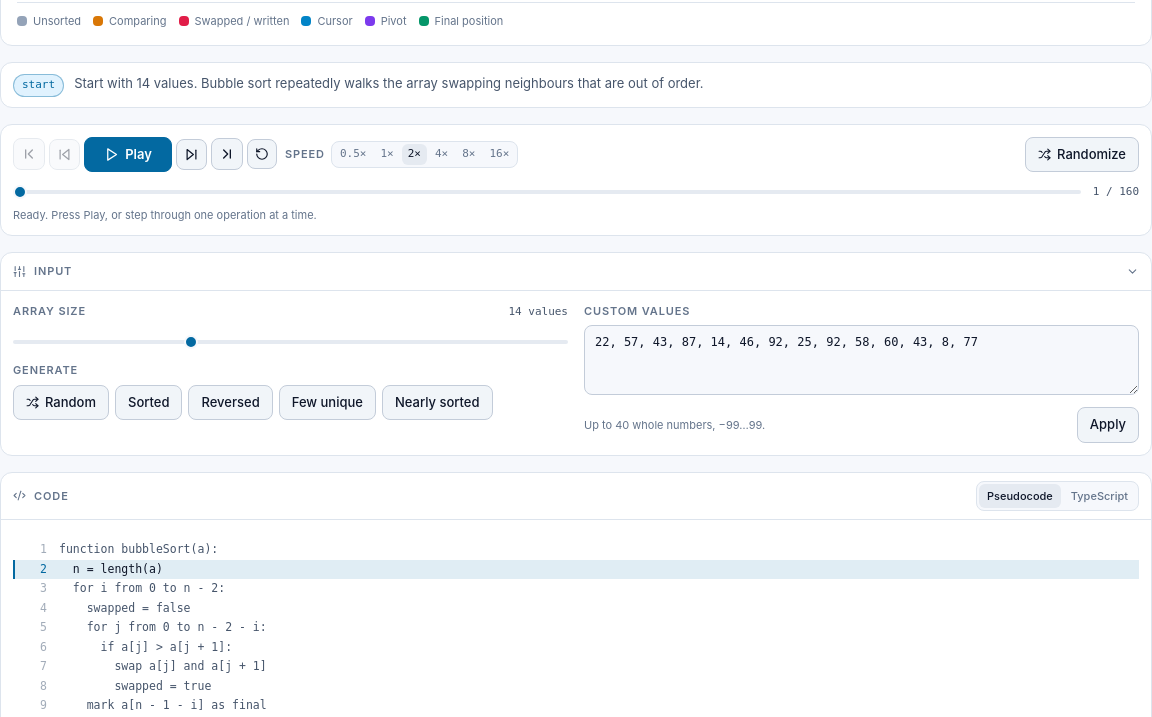
Scenario: SortingPage › explains the counting-sort key range instead of failing silently
The image size is (1152, 717).
(page scrolled)
Replace the text in the text box labelled "Custom values" with "1, 99" at (862,360), box [584,325,1139,395]
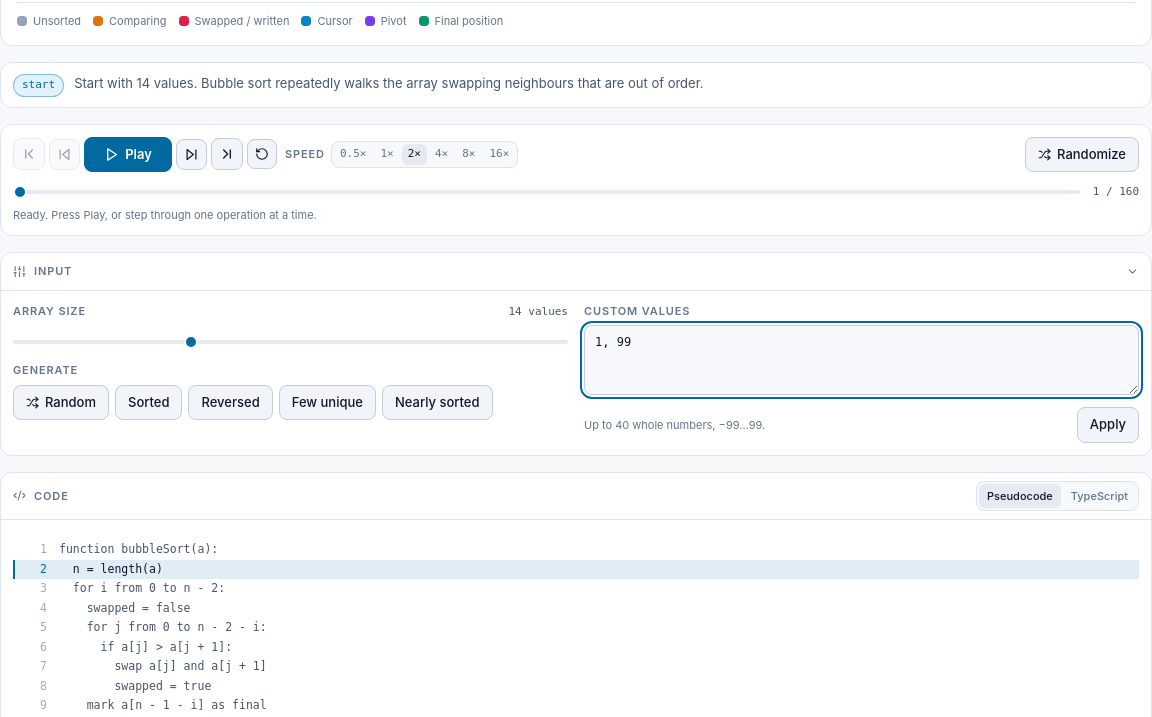
Click the button "Apply" at (1108,425), box [1077,407,1139,442]
(page scrolled)
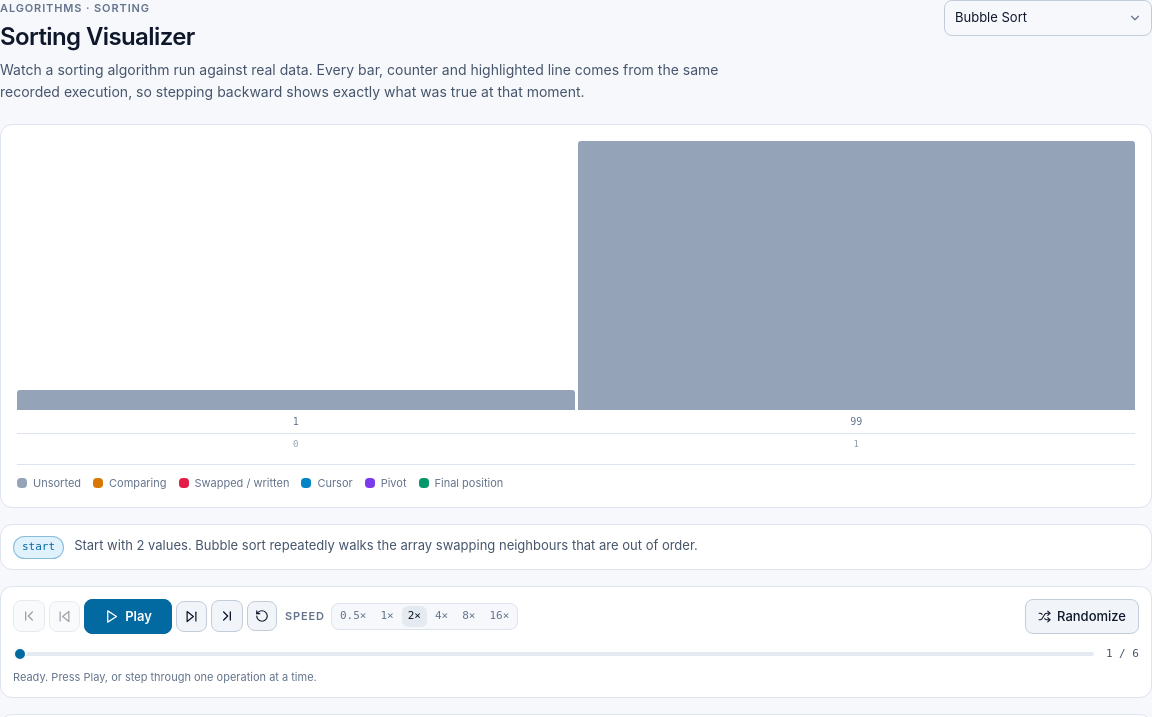
Select "Counting Sort" in the dropdown named "Algorithm" at (1048,18), box [944,0,1151,36]
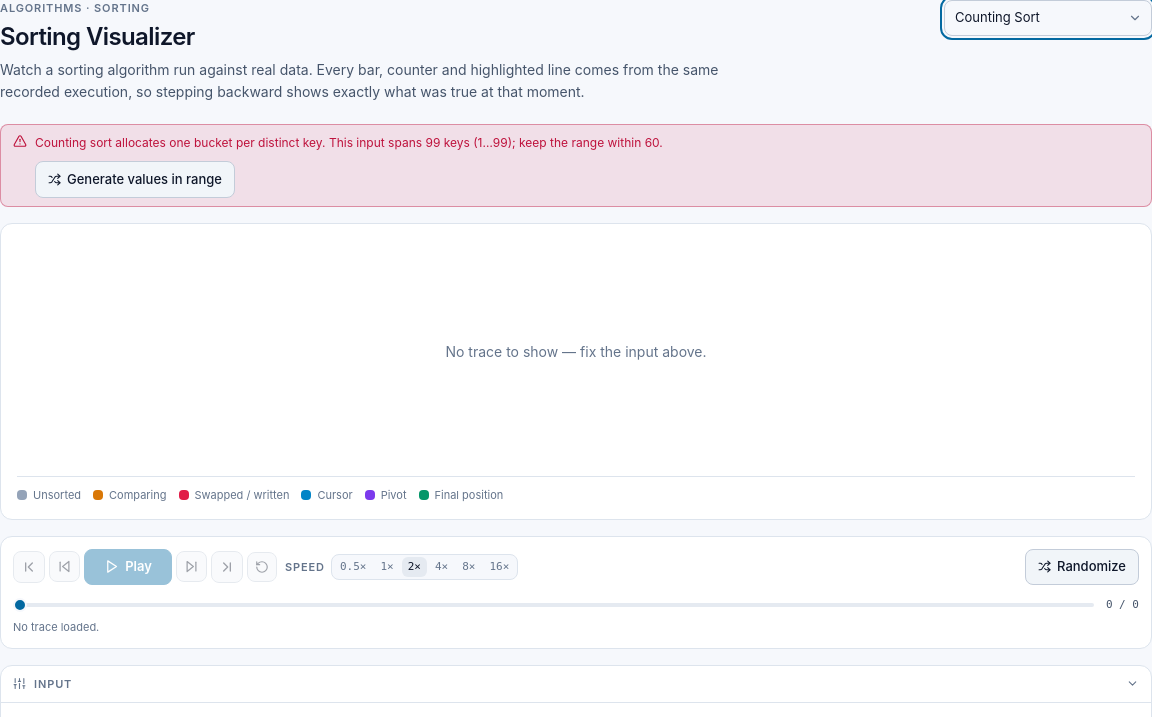
Expected: the message shows "bucket per distinct key", [35,135,663,150]
Click the button "Generate values in range" at (135,179), box [35,160,235,198]
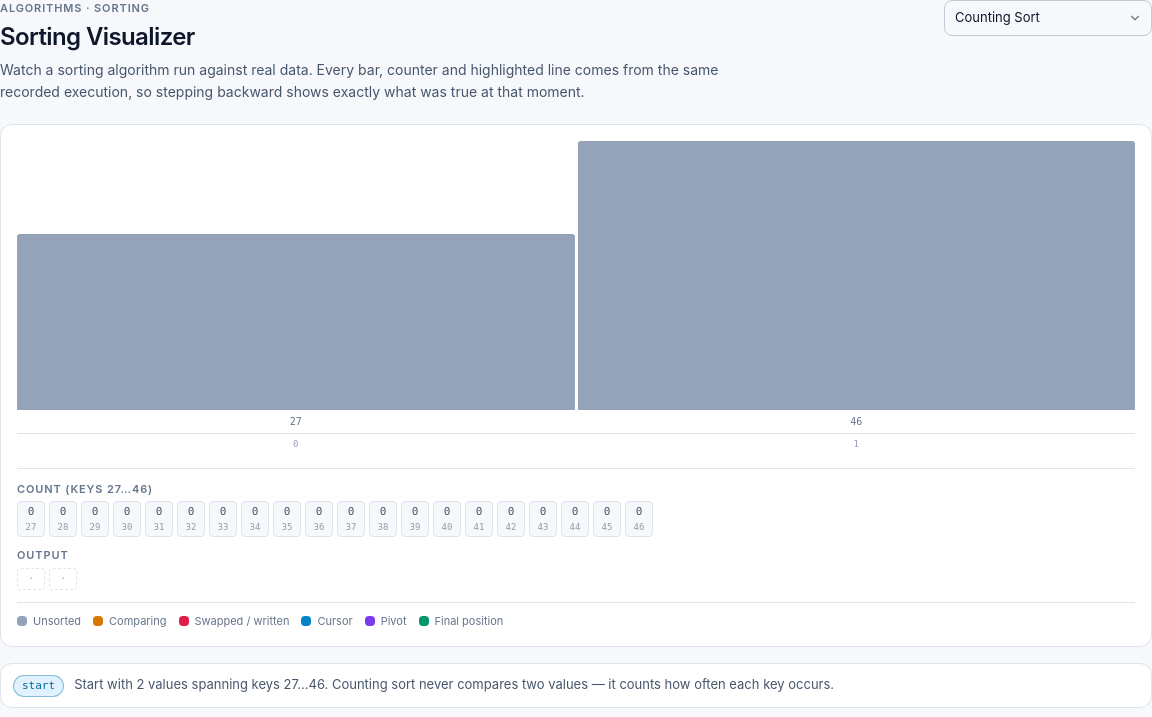
Expected: the message is gone
